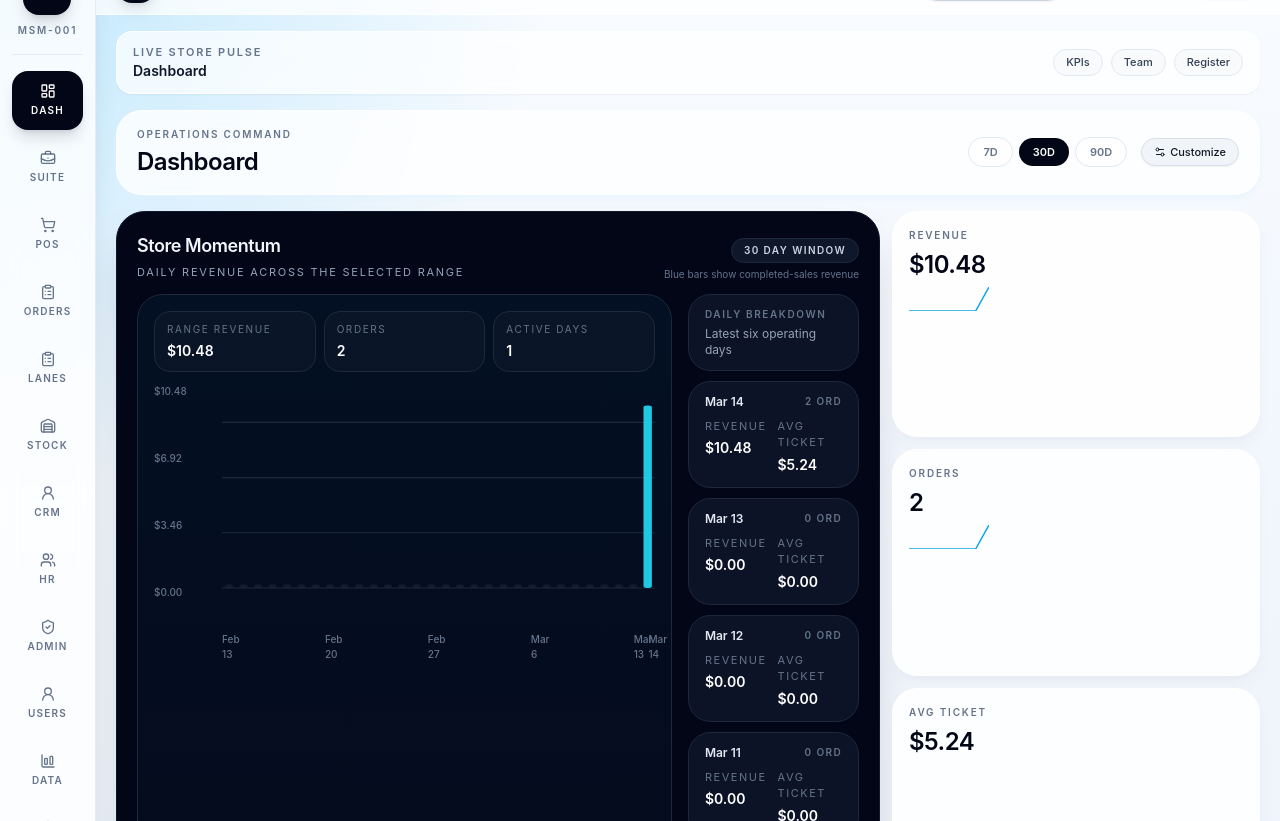
Test: app flows › adds customer and shows it in customer list
Expected: the heading "Dashboard" is shown, top-left (137, 146), bottom-right (258, 176)
Click the link with aria-label "Customers": (47, 502) top-left (34, 485), bottom-right (61, 518)
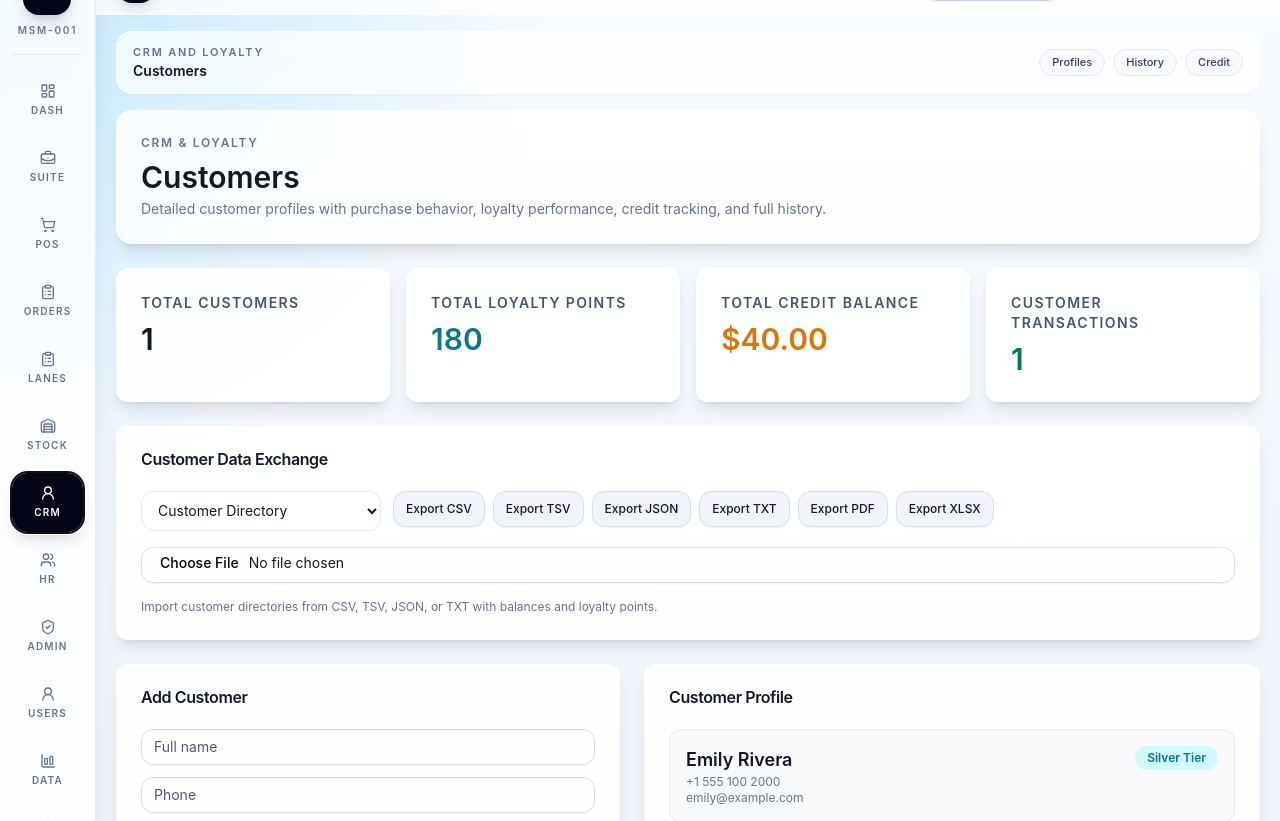
Now the heading "Customers" is shown, box top-left (141, 158), bottom-right (300, 194)
In the field with placeholder "Full name": (368, 746) top-left (141, 728), bottom-right (595, 764), type "Jordan Miles"
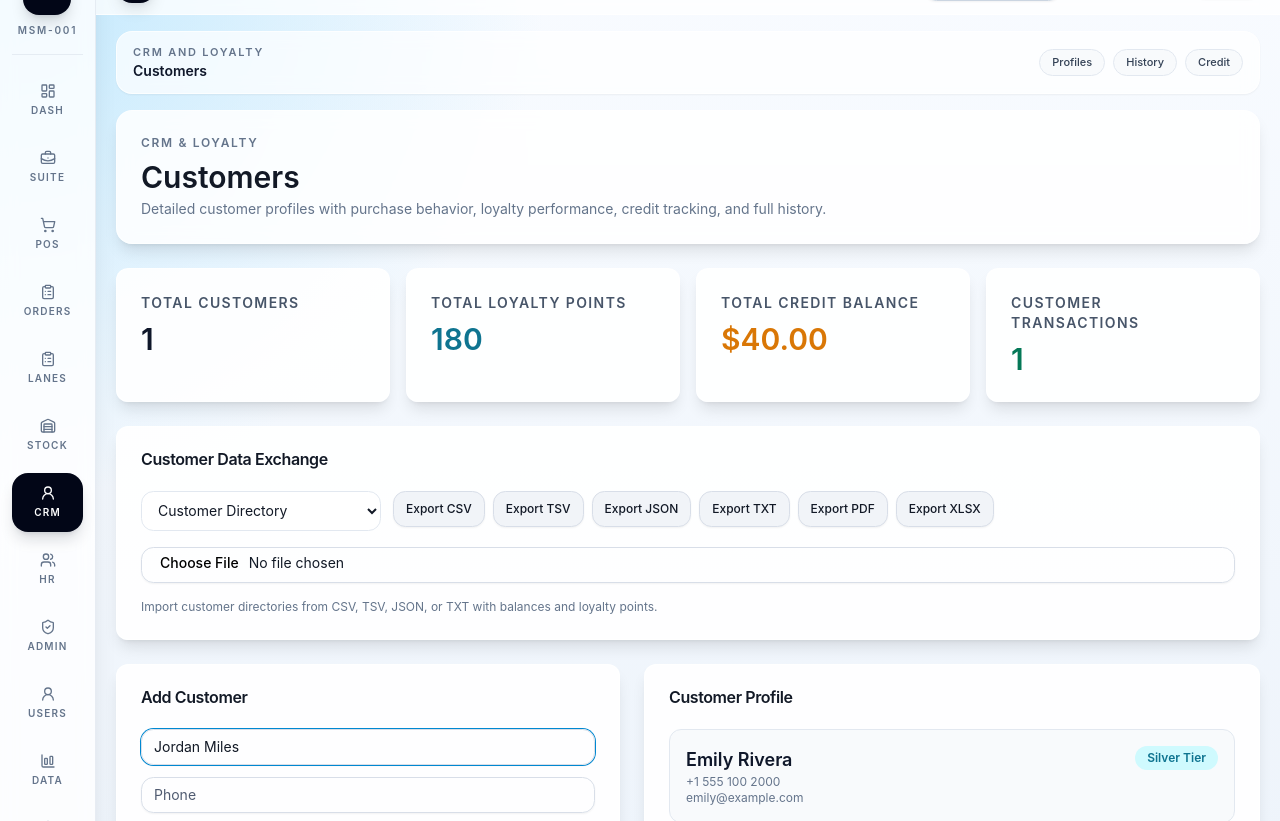
In the field with placeholder "Phone": (368, 794) top-left (141, 776), bottom-right (595, 812), type "+1 555 000 9999"
(page scrolled)
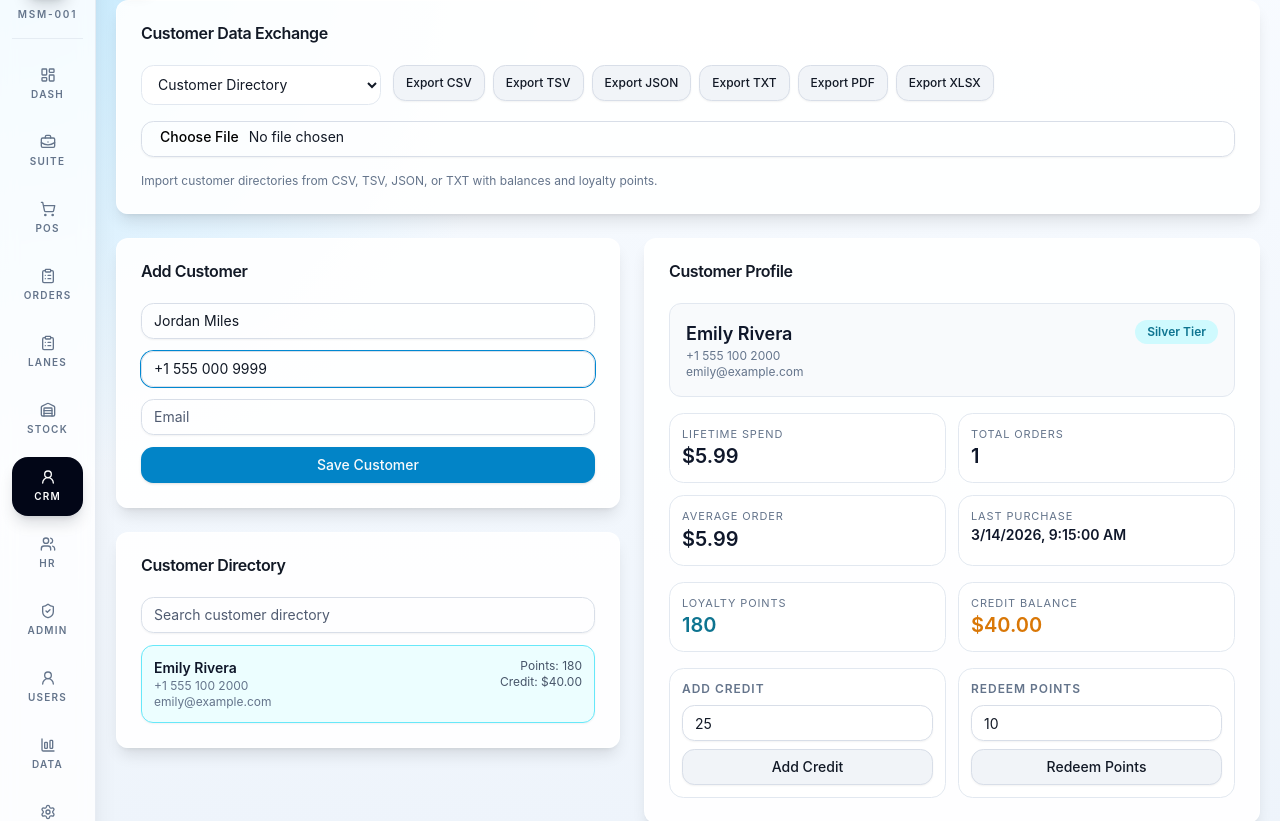
In the field with placeholder "Email": (368, 416) top-left (141, 398), bottom-right (595, 434), type "jordan@example.com"
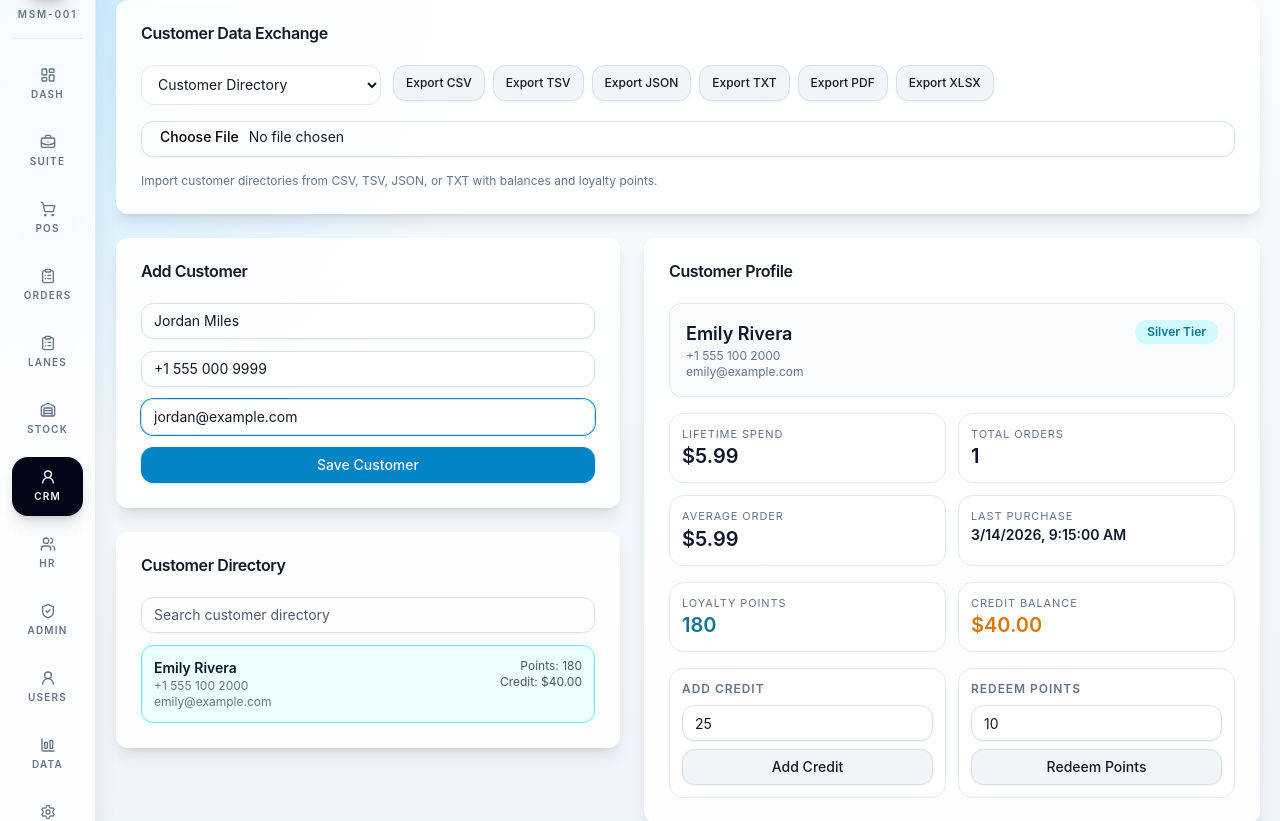
Click the button "Save Customer": (368, 464) top-left (141, 446), bottom-right (595, 482)
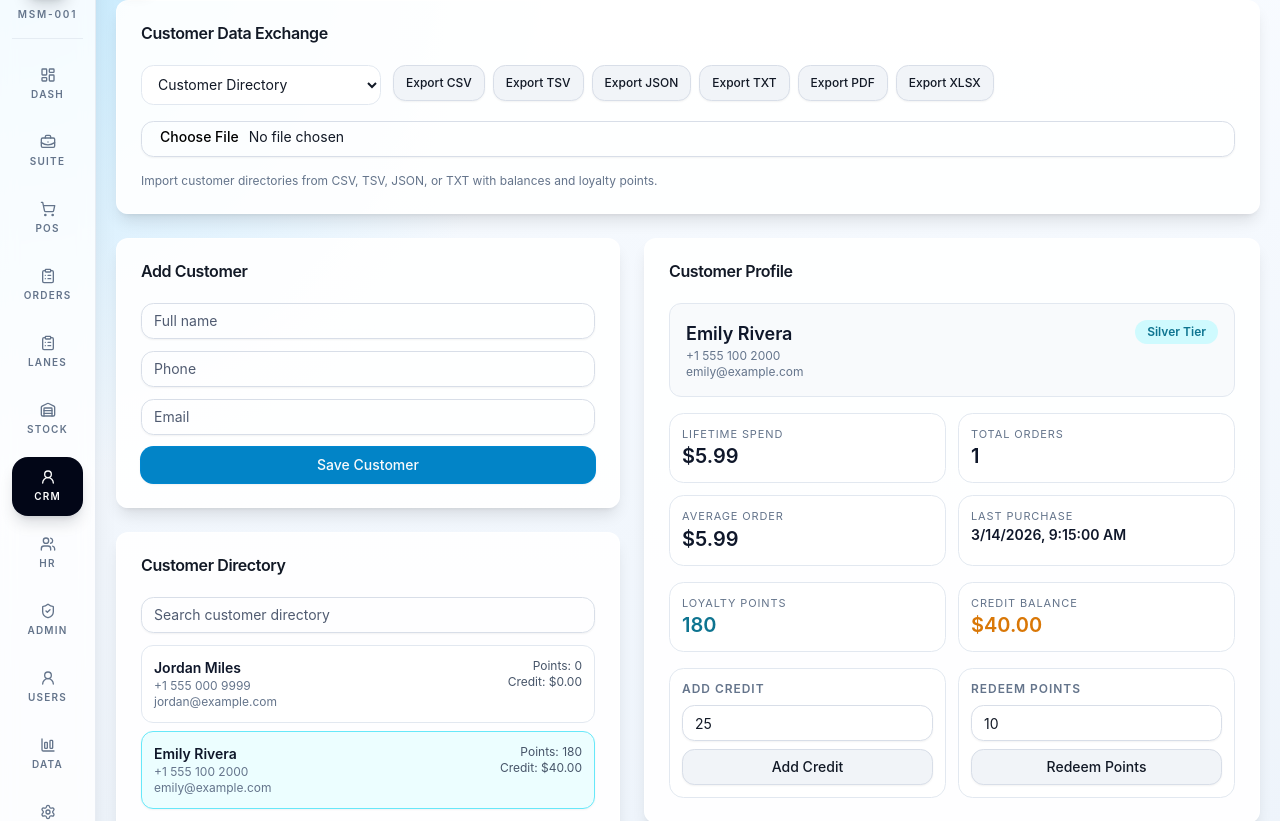
Now the text "Jordan Miles" is shown, box top-left (154, 658), bottom-right (241, 676)
